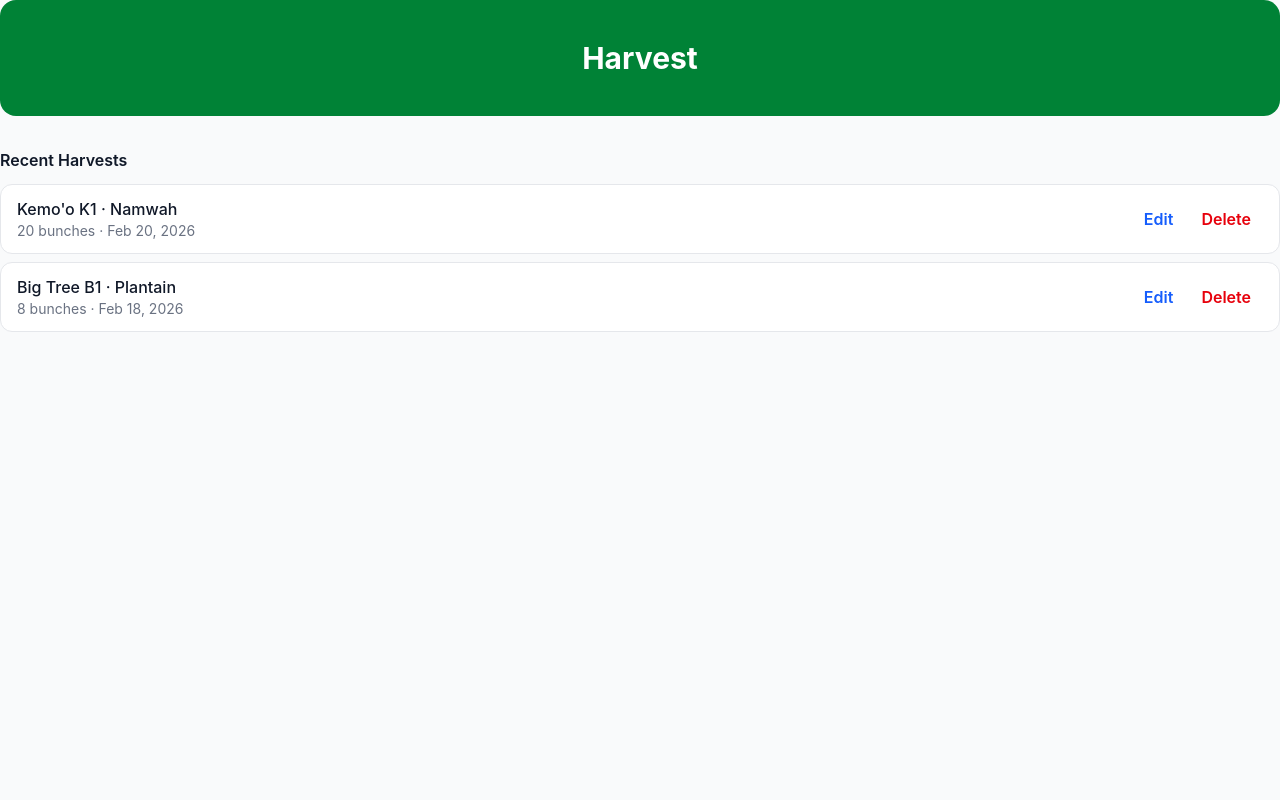
edit harvest overlay › opens the Edit Harvest overlay when Edit is clicked
Click the button "Edit" in the row of "Feb 20, 2026": (1159, 219) [1132, 199, 1185, 239]
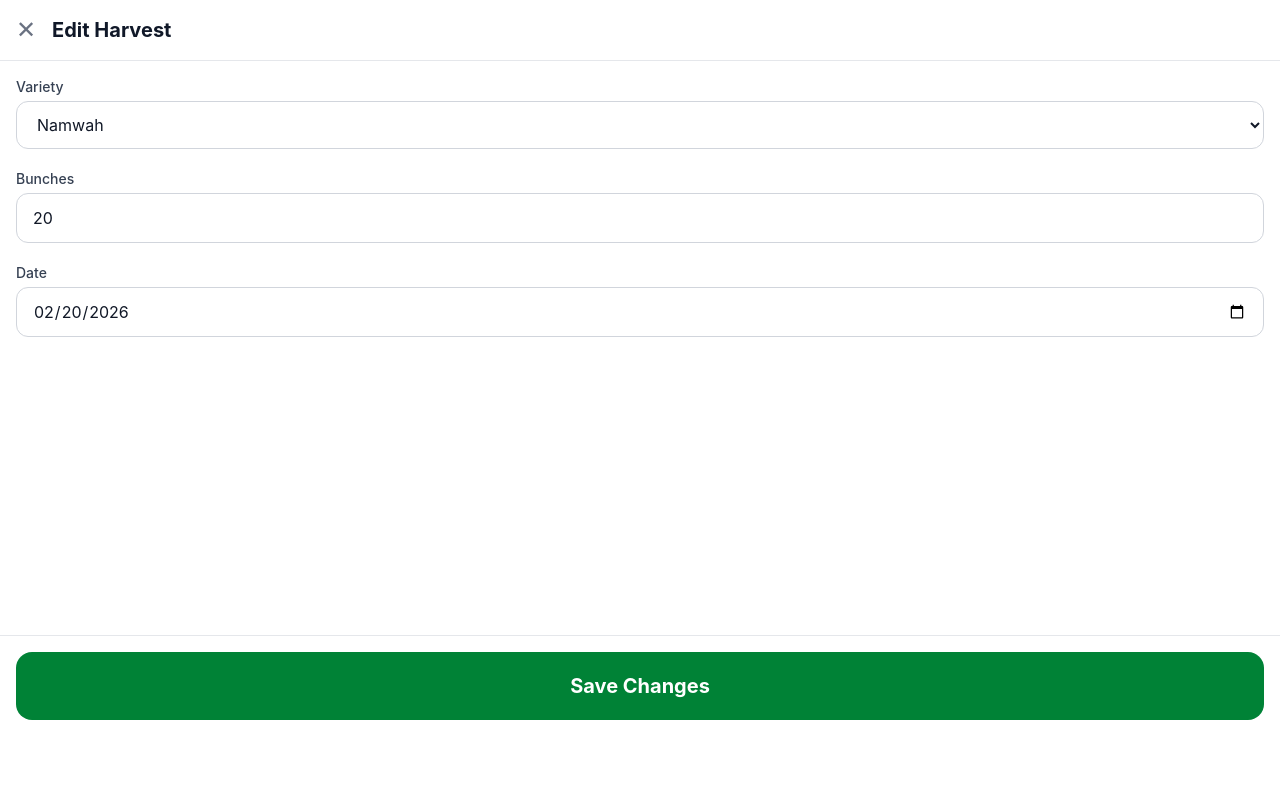
Now the heading "Edit Harvest" is shown, box [52, 16, 171, 44]
